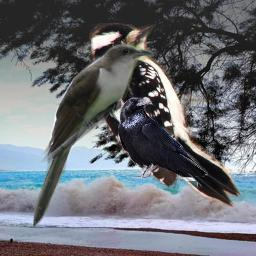Crow: (118, 97, 208, 188)
Cuckoo: (27, 41, 154, 231)
Woodpecker: (89, 23, 242, 211)
